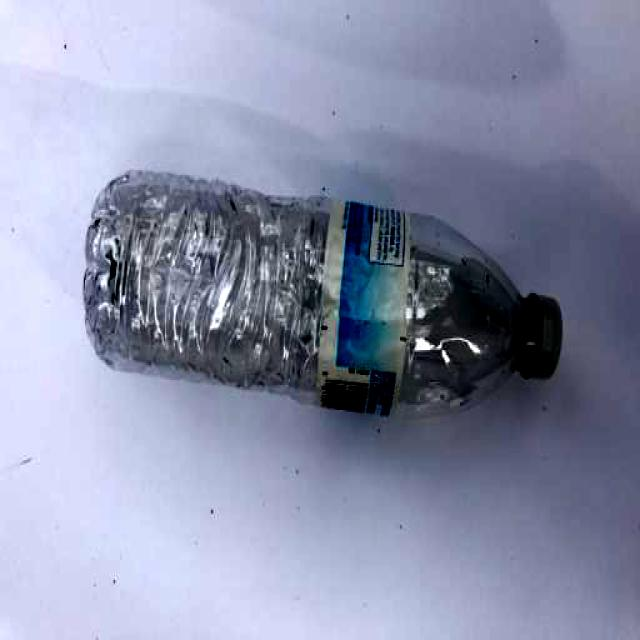Plastic: (78, 167, 571, 425)
